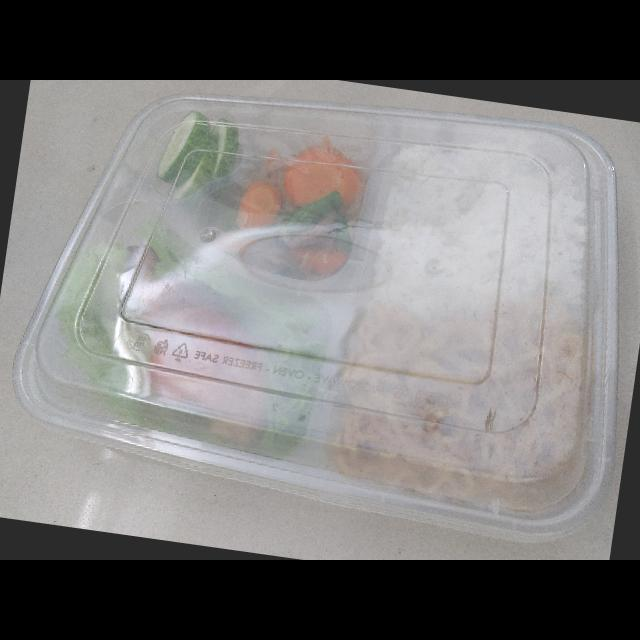bento: (15, 90, 618, 543)
